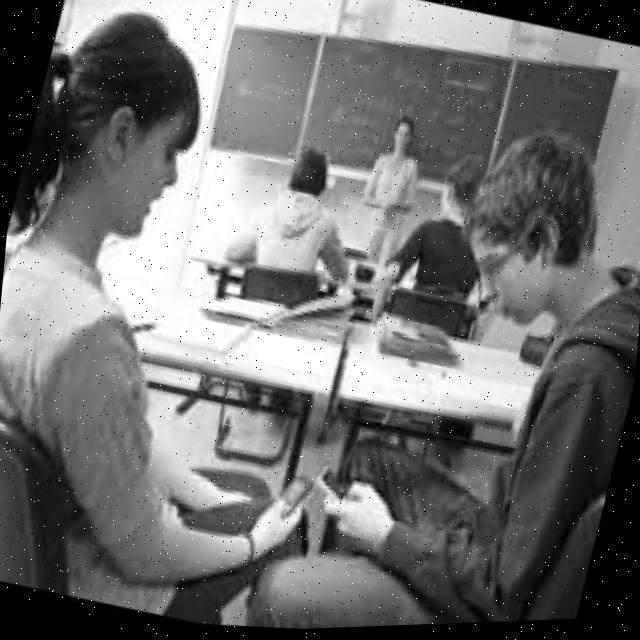phone: (276, 471, 318, 527), (311, 464, 352, 510)
